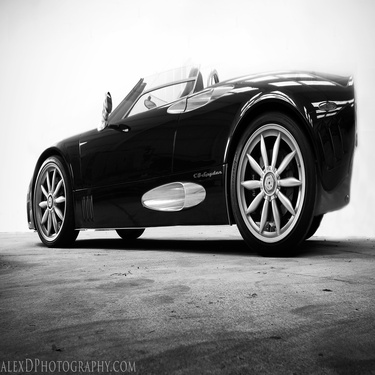car: (1, 59, 363, 256)
